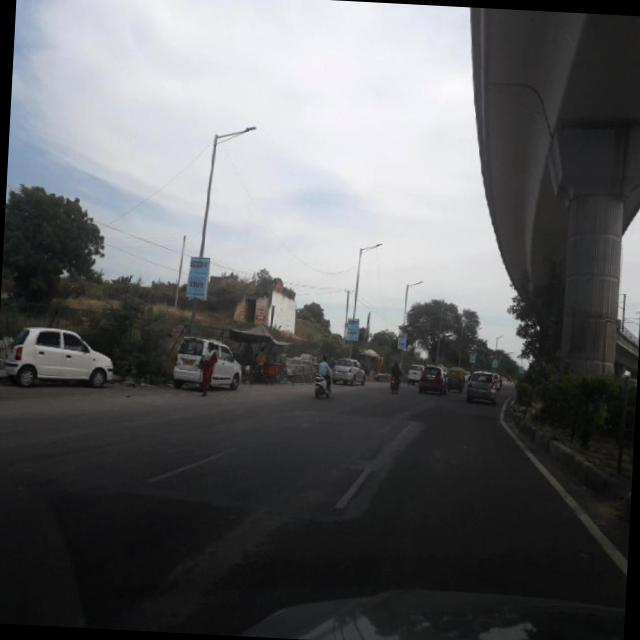crack: (188, 522, 312, 634)
